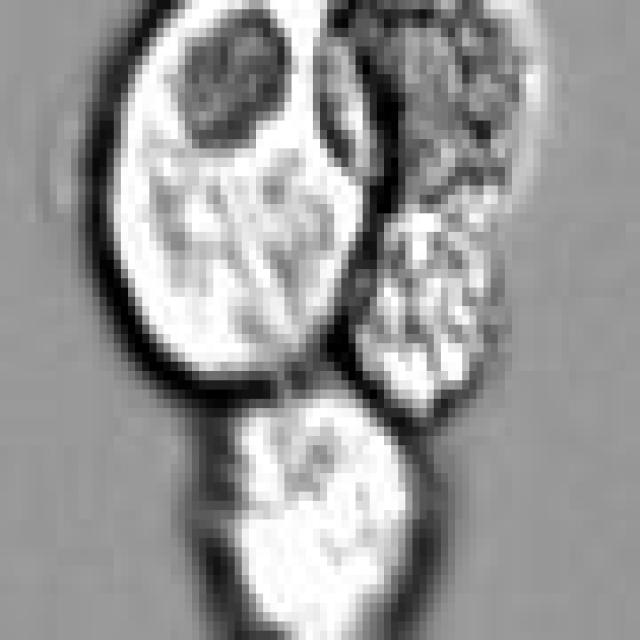Cancer Cell: (100, 9, 370, 380)
WBC: (220, 371, 420, 631), (320, 9, 533, 204), (348, 204, 498, 408)
